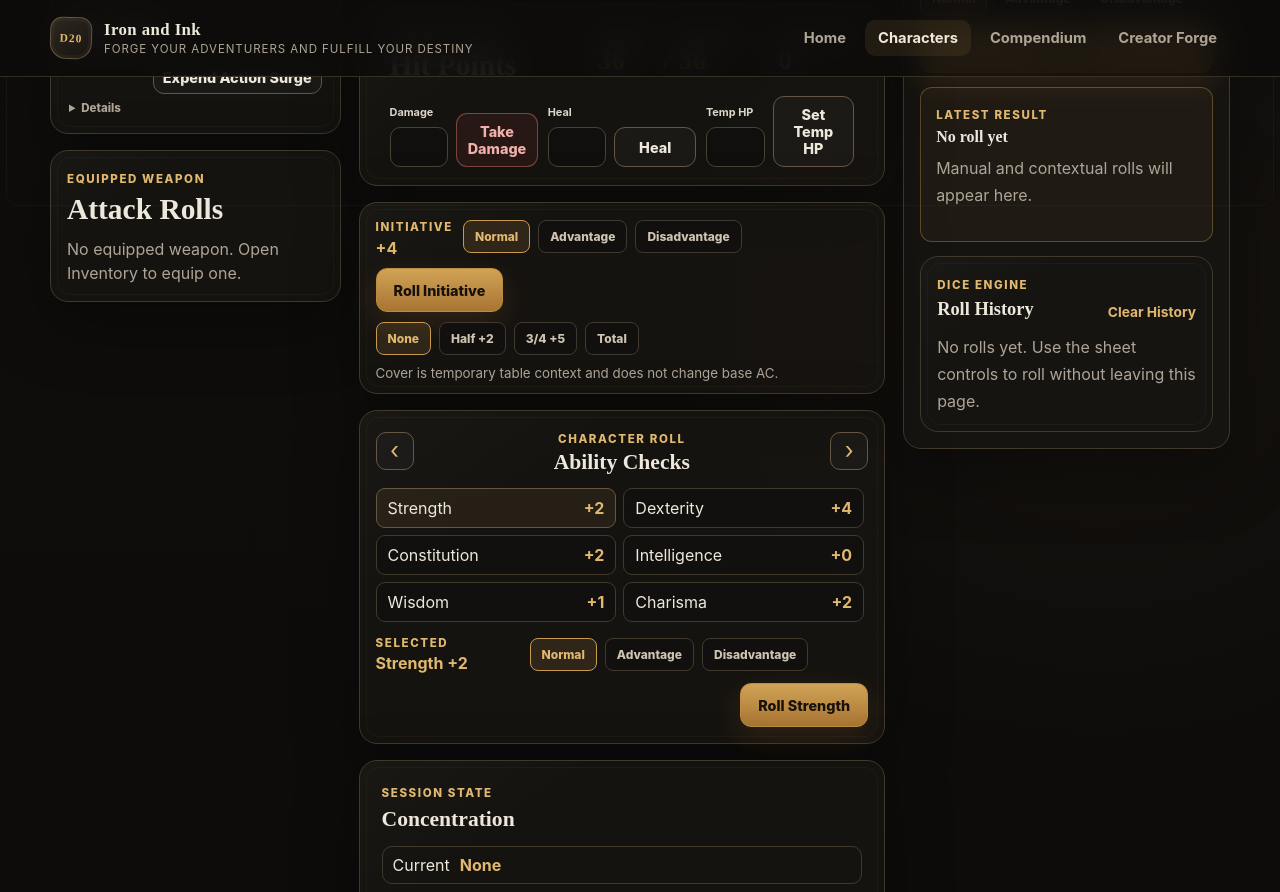
Test: PLAY UI stabilization checkpoint › A/B/C keeps the upper dashboard readable and provides one compact cyclic Character Roll category surface
(page scrolled)
Expected: the element "Attack Rolls" is shown, [50,150,340,302]
Expected: the element "Hit Points" is shown, [358,4,885,186]
Click the button named "Next Character Roll category".
click(849, 451)  # box [830,432,868,470]
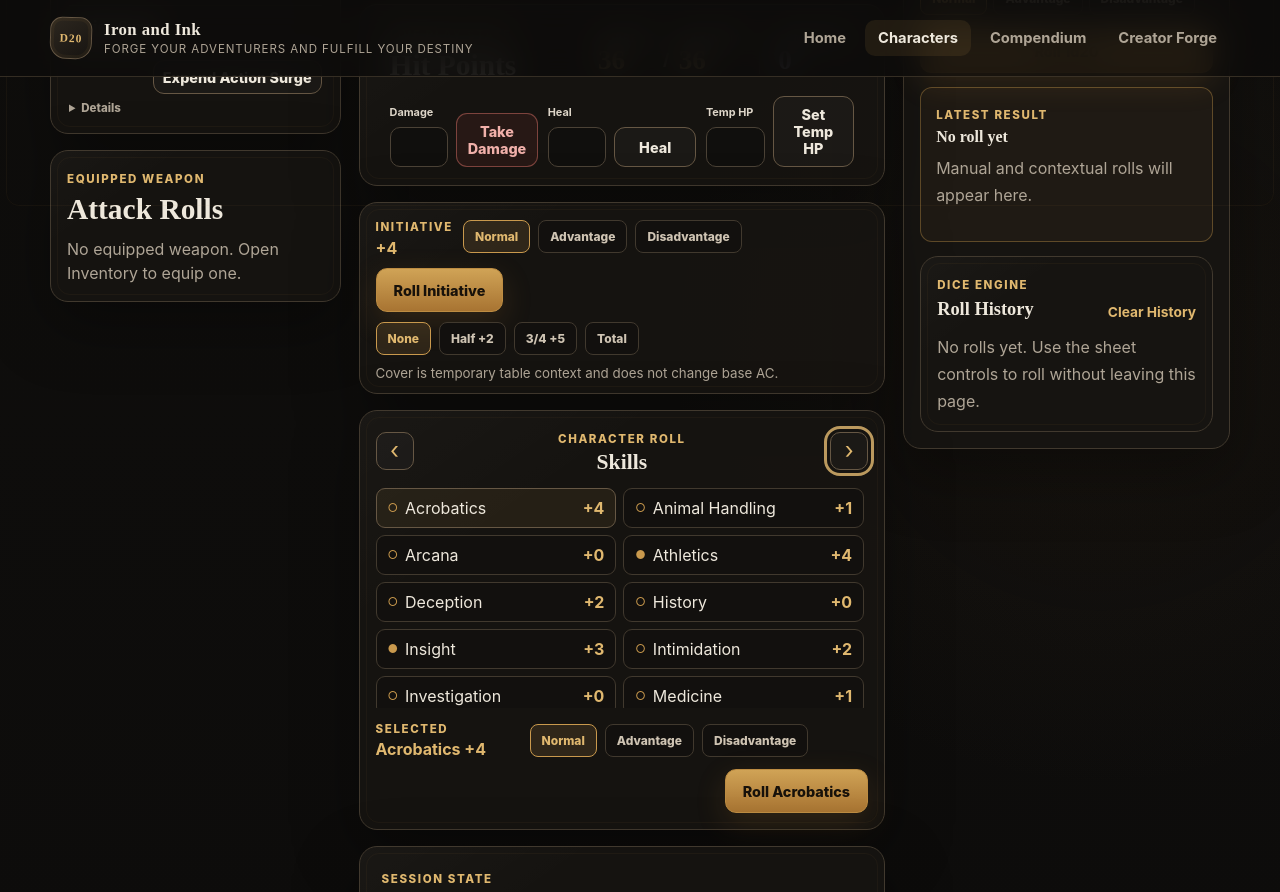
Expected: the heading "Skills" is shown, [597,450,647,474]
Click the button named "Next Character Roll category".
click(849, 451)  # box [830,432,868,470]
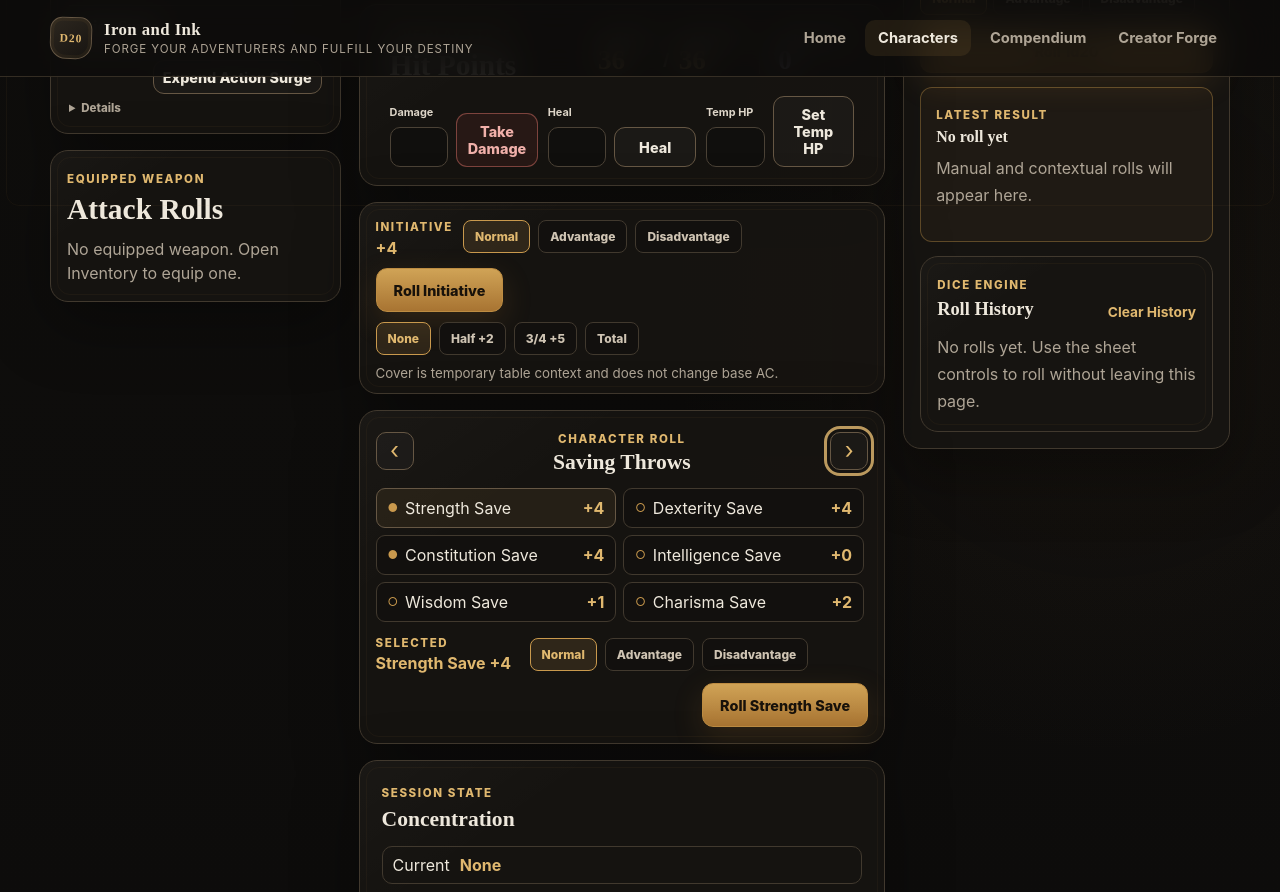
Expected: the heading "Saving Throws" is shown, [553,450,691,474]
Click the button named "Next Character Roll category".
click(849, 451)  # box [830,432,868,470]
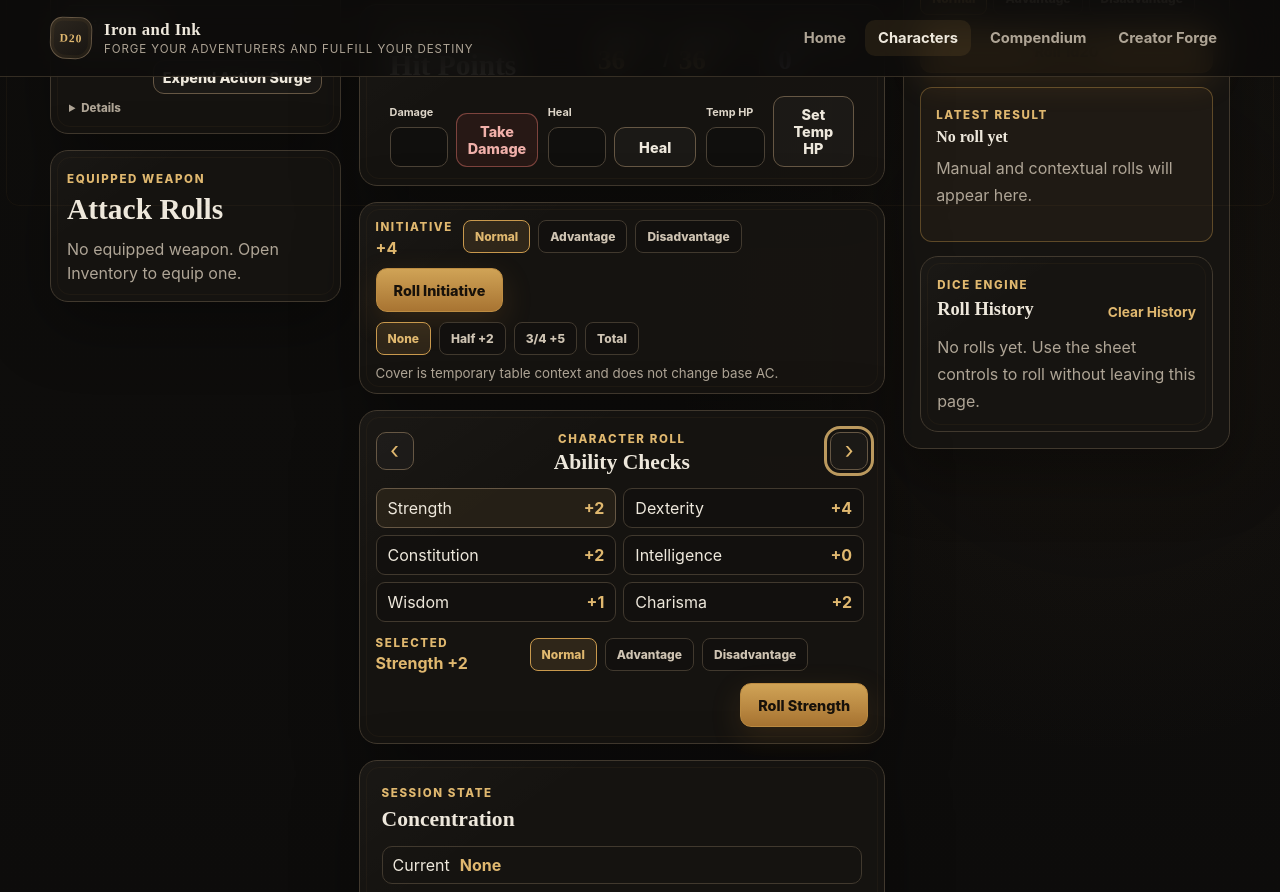
Expected: the heading "Ability Checks" is shown, [554,450,690,474]
Click the button named "Previous Character Roll category".
click(394, 451)  # box [376,432,414,470]
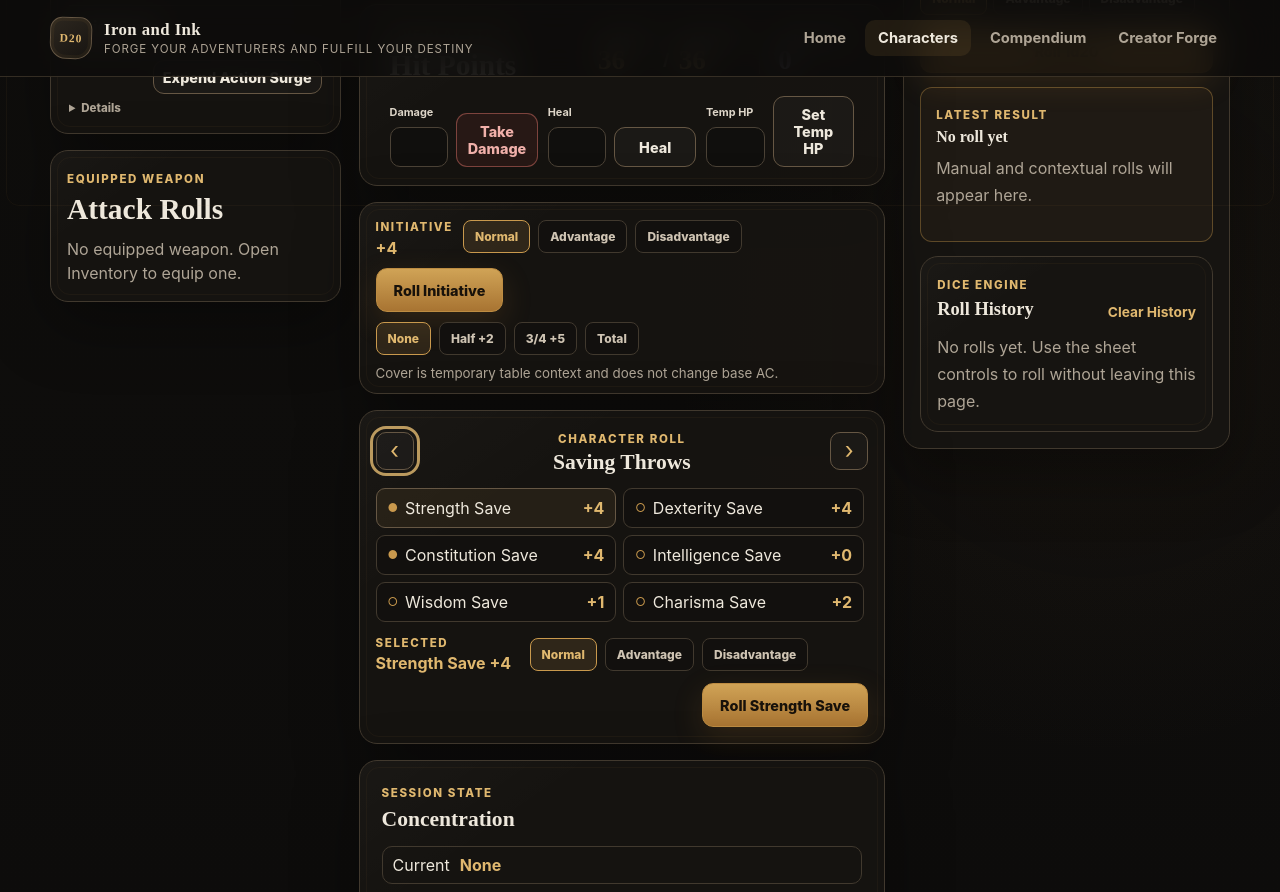
Expected: the heading "Saving Throws" is shown, [553,450,691,474]
